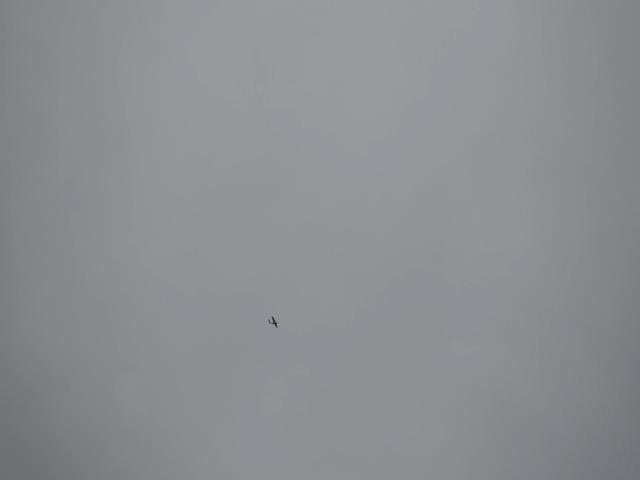plane: (268, 317, 278, 327)
